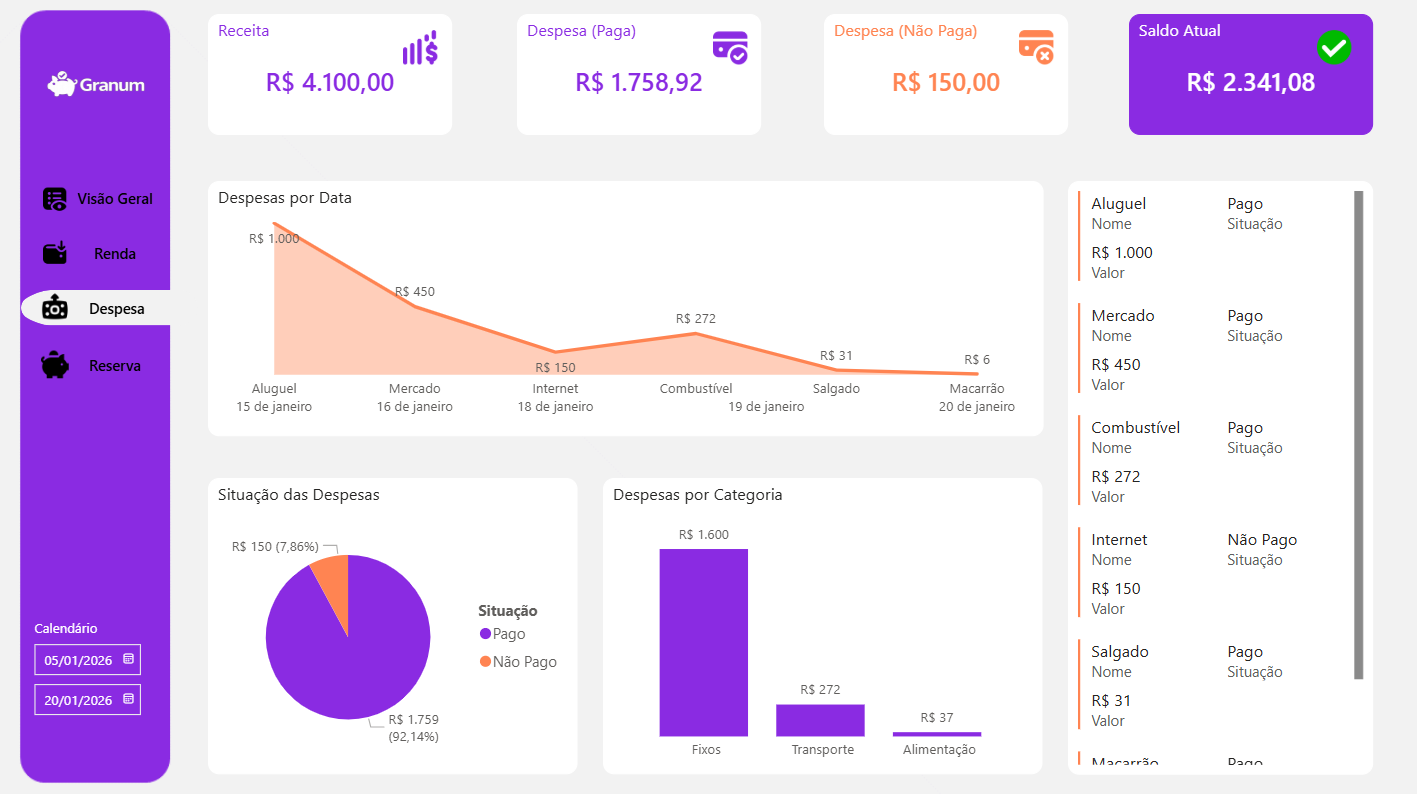

Layout of this report page (visuals, bound fields, positions):
{"tool":"powerbi","page":{"name":"Despesa","canvas":[1280,720],"ordinal":2},"visuals":[{"type":"card","title":"Receita","fields":{"Values":["Medidas.Total em Conta"]},"box":[188.9,15.1,219.9,109.1],"z":0,"group":"g5"},{"type":"shape","box":[12.7,166.1,165.8,31.9],"z":0,"group":"g1"},{"type":"shape","box":[12.7,214.9,165.8,31.9],"z":0,"group":"g2"},{"type":"shape","box":[14.6,263.8,165.3,32.1],"z":0,"group":"g3"},{"type":"shape","box":[12.7,316,165.8,31.9],"z":0,"group":"g4"},{"type":"slicer","fields":{"Values":["Controle Financeiro.Data "]},"box":[19.5,555.1,135.7,102.9],"z":0},{"type":"card","title":"Despesa (Paga)","fields":{"Values":["Medidas.Total de Gastos Pago"]},"box":[467.3,15.1,219.9,109.1],"z":1000,"group":"g6"},{"type":"image","box":[41.1,158.1,21.3,48.8],"z":1000,"group":"g1"},{"type":"image","box":[41.1,205.1,21.3,48.8],"z":1000,"group":"g2"},{"type":"image","box":[39.2,252.1,24.8,52.3],"z":1000,"group":"g3"},{"type":"image","box":[39.2,304.4,24.8,52.3],"z":1000,"group":"g4"},{"type":"card","title":"Despesa (Não Paga)","fields":{"Values":["Medidas.Total de Gastos Não Pago"]},"box":[743.9,15.1,219.9,109.1],"z":2000,"group":"g7"},{"type":"group","id":"g1","title":"Grupo 1","box":[12.7,158.1,165.8,48.8],"z":2000},{"type":"card","title":"Saldo Atual","fields":{"Values":["Medidas.Saldo Total"]},"box":[1018.8,15.1,219.9,109.1],"z":3000,"group":"g8"},{"type":"group","id":"g2","title":"Grupo 1","box":[12.7,205.1,165.8,48.8],"z":3000},{"type":"image","box":[1188.2,19.5,31,50.5],"z":4000,"group":"g8"},{"type":"group","id":"g3","title":"Grupo 1","box":[14.6,252.1,165.3,52.3],"z":4000},{"type":"image","box":[919.5,19.5,31,50.5],"z":5000,"group":"g7"},{"type":"group","id":"g4","title":"Grupo 1","box":[12.7,304.4,165.8,52.3],"z":5000},{"type":"image","box":[643.8,19.5,31,50.5],"z":6000,"group":"g6"},{"type":"clusteredColumnChart","title":"Despesas por Categoria","fields":{"Category":["Controle Financeiro.Categoria"],"Y":["Medidas.Total de Gastos Geral"]},"box":[545.3,433.6,396.4,266.9],"z":6000},{"type":"image","box":[364.5,19.5,31,50.5],"z":7000,"group":"g5"},{"type":"multiRowCard","fields":{"Values":["Controle Financeiro.Nome","Controle Financeiro.Situação","Medidas.Total de Gastos Geral"]},"box":[963.8,165.8,274.9,534.7],"z":7000},{"type":"pieChart","title":"Situação das Despesas","fields":{"Y":["Medidas.Total de Gastos Geral"],"Category":["Controle Financeiro.Situação"]},"box":[188.9,433.6,332.5,266.9],"z":8000},{"type":"group","id":"g5","title":"Grupo 2","box":[188.9,15.1,219.9,109.1],"z":9000},{"type":"group","id":"g6","title":"Grupo 3","box":[467.3,15.1,219.9,109.1],"z":10000},{"type":"group","id":"g7","title":"Grupo 4","box":[743.9,15.1,219.9,109.1],"z":11000},{"type":"group","id":"g8","title":"Grupo 5","box":[1018.8,15.1,219.9,109.1],"z":12000},{"type":"lineChart","title":"Despesas por Data ","fields":{"Category":["Controle Financeiro.Data ","Controle Financeiro.Nome"],"Y":["Medidas.Total de Gastos Geral"]},"box":[188.9,165.8,752.8,229.7],"z":13000},{"type":"image","box":[0,0,173.8,165.8],"z":13001}]}

Visuals, with their boxes on the page's 1280x720 design canvas (x1, y1, x2, y2). These are canvas units, not pixel positions in the 1417x794 screenshot, which may show the page scaled, cropped or inside an application window:
"Receita" card: region(189, 15, 409, 124)
shape: region(13, 166, 178, 198)
shape: region(13, 215, 178, 247)
shape: region(15, 264, 180, 296)
shape: region(13, 316, 178, 348)
slicer - Controle Financeiro.Data : region(20, 555, 155, 658)
"Despesa (Paga)" card: region(467, 15, 687, 124)
image: region(41, 158, 62, 207)
image: region(41, 205, 62, 254)
image: region(39, 252, 64, 304)
image: region(39, 304, 64, 357)
"Despesa (Não Paga)" card: region(744, 15, 964, 124)
"Grupo 1" group: region(13, 158, 178, 207)
"Saldo Atual" card: region(1019, 15, 1239, 124)
"Grupo 1" group: region(13, 205, 178, 254)
image: region(1188, 20, 1219, 70)
"Grupo 1" group: region(15, 252, 180, 304)
image: region(920, 20, 950, 70)
"Grupo 1" group: region(13, 304, 178, 357)
image: region(644, 20, 675, 70)
"Despesas por Categoria" clusteredColumnChart: region(545, 434, 942, 700)
image: region(364, 20, 396, 70)
multiRowCard - Controle Financeiro.Nome x Controle Financeiro.Situação: region(964, 166, 1239, 700)
"Situação das Despesas" pieChart: region(189, 434, 521, 700)
"Grupo 2" group: region(189, 15, 409, 124)
"Grupo 3" group: region(467, 15, 687, 124)
"Grupo 4" group: region(744, 15, 964, 124)
"Grupo 5" group: region(1019, 15, 1239, 124)
"Despesas por Data " lineChart: region(189, 166, 942, 396)
image: region(0, 0, 174, 166)
